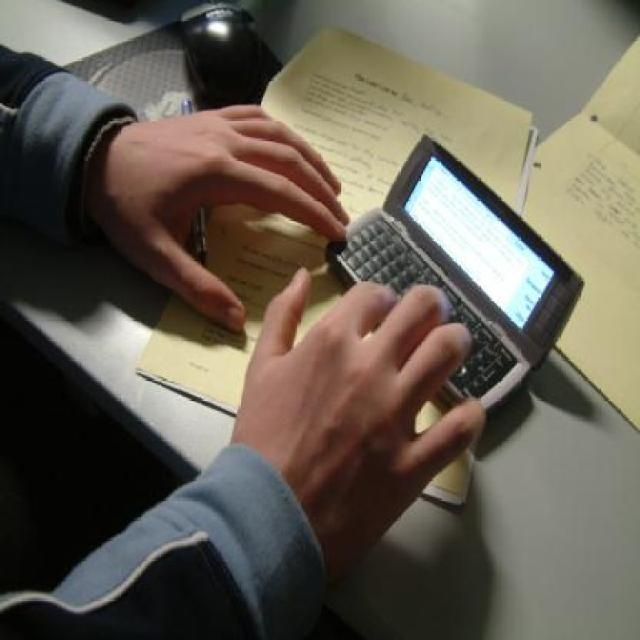obstacle: (0, 29, 486, 638)
